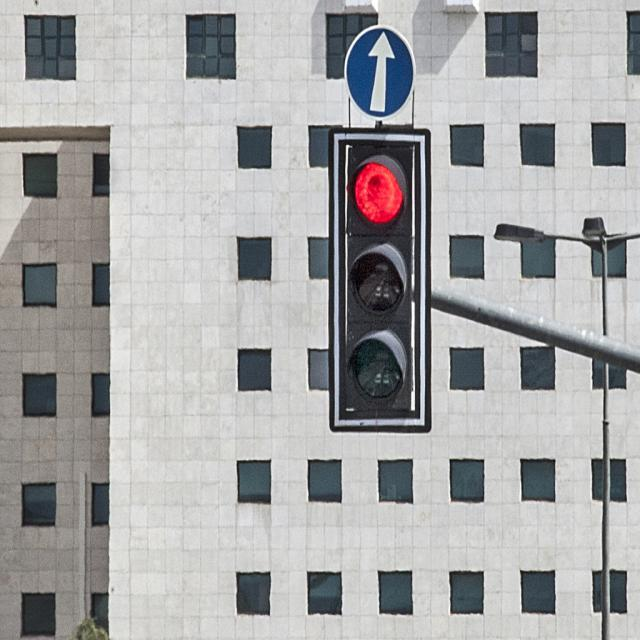traffic light: (343, 130, 416, 423)
